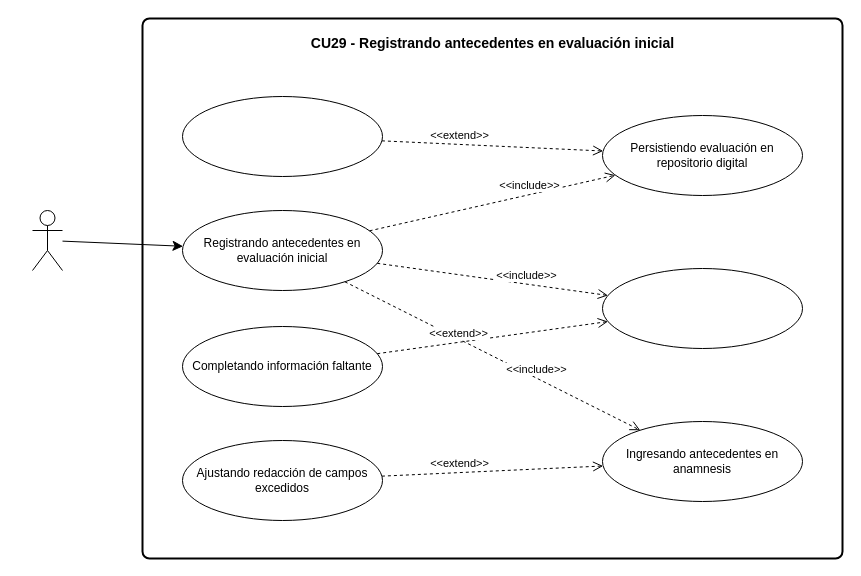
This 861x576 diagram has some shape labels left out. Here are the shapes that lost their labels. From the top down, the box of each, then its label:
(182, 96, 382, 176): Recargando sesión clínica por colisión de escritura
(32, 210, 62, 270): Profesional
(602, 268, 802, 348): Validando integridad y obligatoriedad de datos
